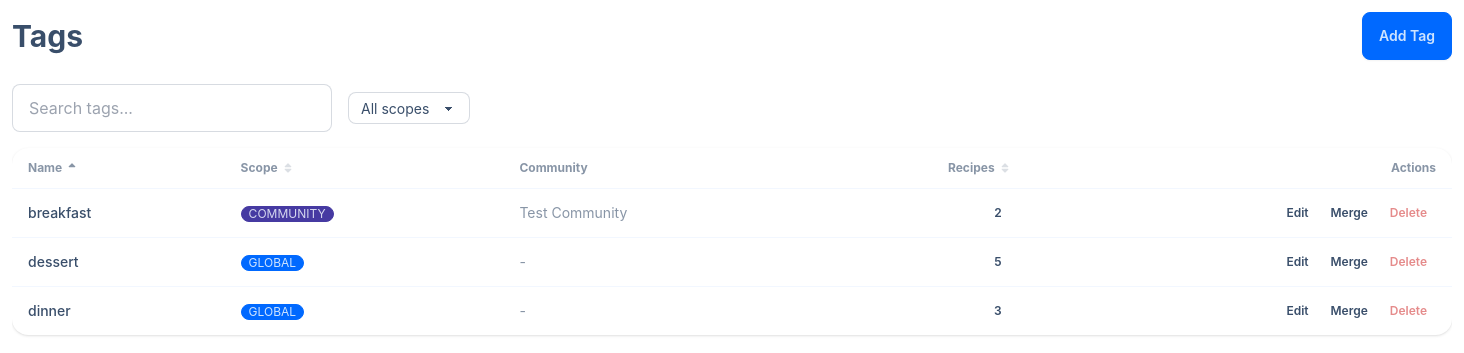
Test case: AdminTagsPage › should filter by scope when scope select changes
Expected: the text "dessert" is shown, 12,238 -> 225,286
Select "Global" in the dropdown named "Filter by scope" at (409, 108), box 348,92 -> 470,124
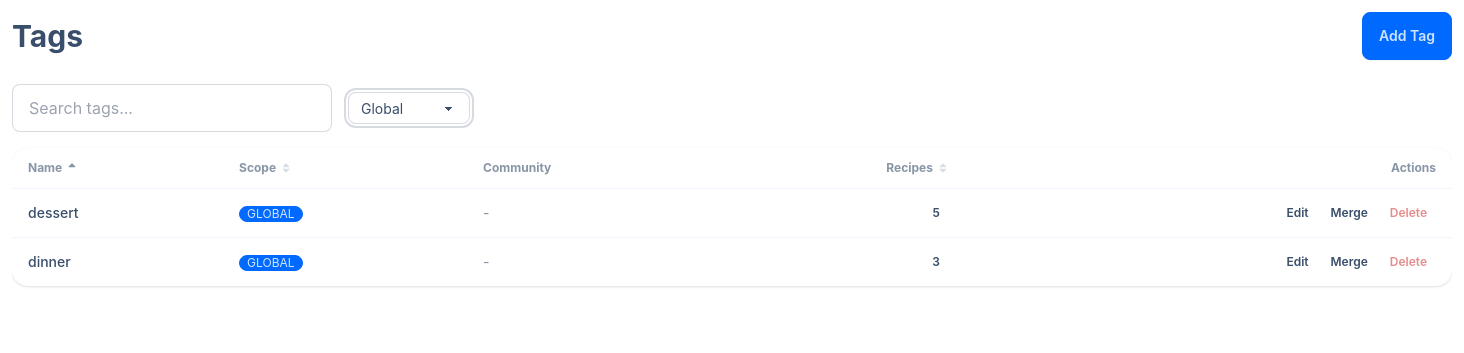
Expected: the text "dessert" is shown, 12,188 -> 223,238
Expected: the text "breakfast" is gone
